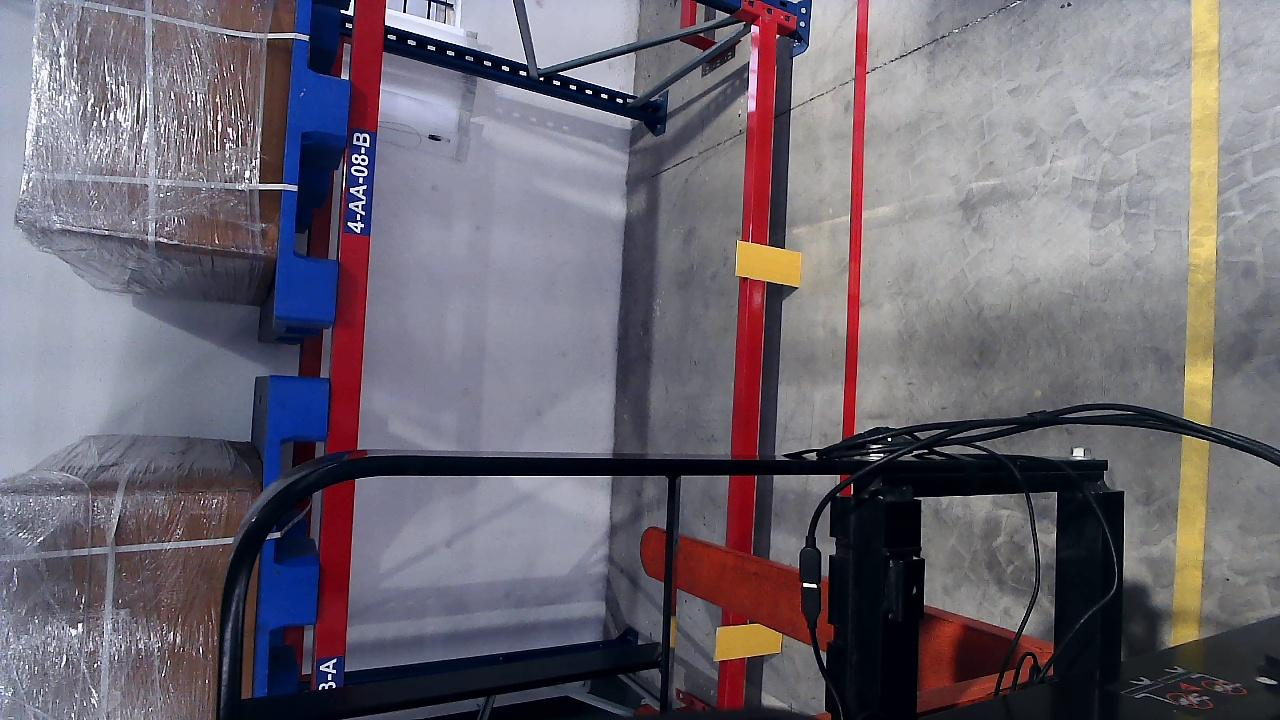h_rack: (311, 0, 383, 681), (721, 11, 780, 710)
orange_strip: (735, 241, 801, 287), (714, 625, 783, 661)
red_line: (842, 6, 868, 439)
small_pallet: (270, 0, 367, 323), (253, 377, 330, 694)
yellow_line: (1171, 0, 1213, 643)
